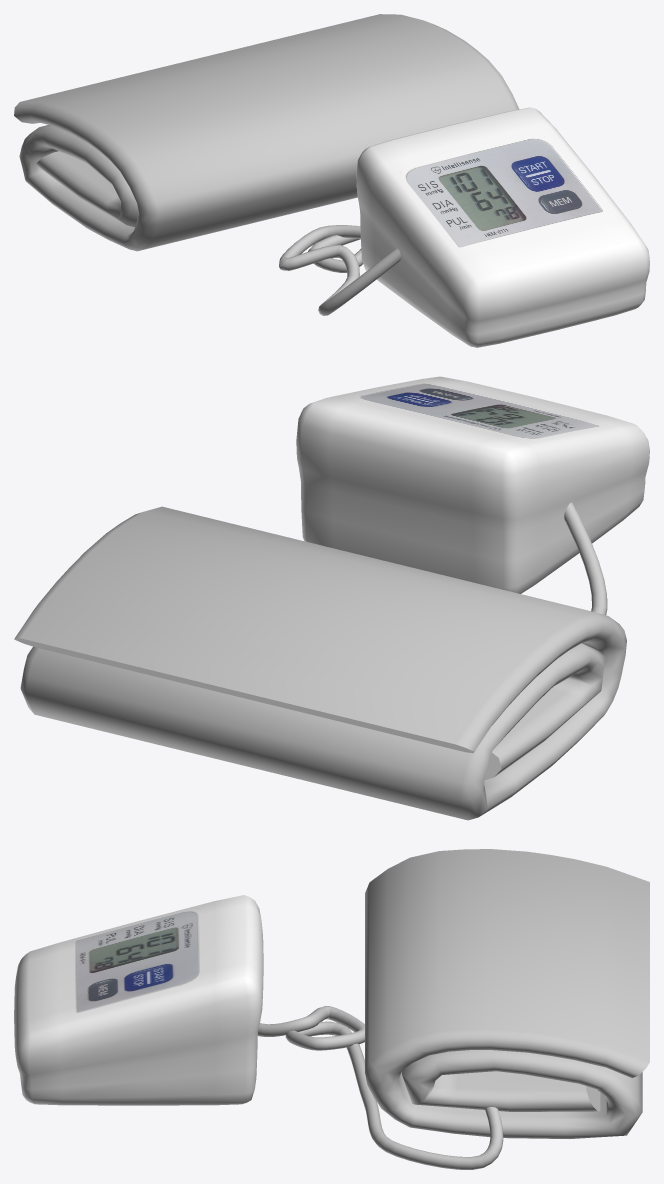
The model's file is Medidor_4.FBX.
The picture shows the model from 3 angles, top to bottom: view 1: azimuth 30°, elevation 25°; view 2: azimuth 150°, elevation 25°; view 3: azimuth 270°, elevation 25°; orthographic projection. The views are drawn at different scales.
Parts seen in each view (by area): view 1: Oscuro_medidor_4, Claro_medidor_4, Cable_medidor_4; view 2: Oscuro_medidor_4, Claro_medidor_4, Cable_medidor_4; view 3: Oscuro_medidor_4, Claro_medidor_4, Cable_medidor_4.
Boxes of the visible parts, x1,y1,x2,y2 form: Oscuro_medidor_4: [14, 14, 519, 251]; Claro_medidor_4: [356, 107, 649, 347]; Cable_medidor_4: [279, 225, 401, 315]; Oscuro_medidor_4: [14, 506, 626, 820]; Claro_medidor_4: [296, 376, 649, 593]; Cable_medidor_4: [564, 502, 607, 615]; Oscuro_medidor_4: [365, 849, 649, 1139]; Claro_medidor_4: [14, 895, 263, 1105]; Cable_medidor_4: [257, 1006, 503, 1169].
Bounding box in the file's own units: 0.267 × 0.0898 × 0.339.
